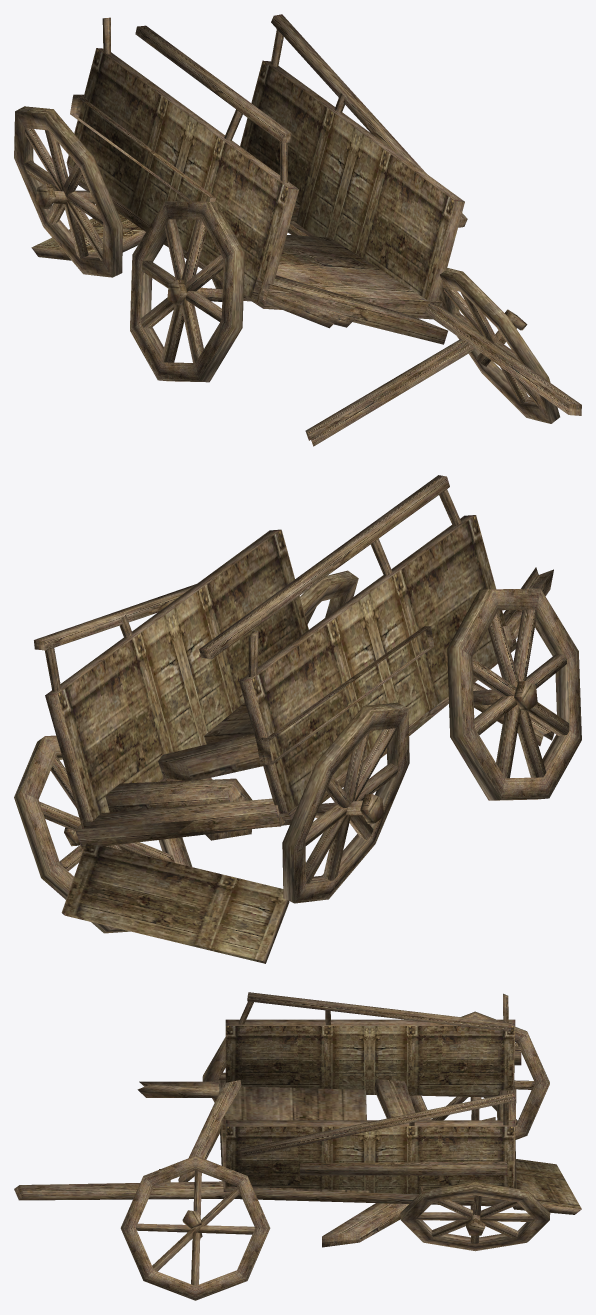
Rendered from S_Build_West030.FBX.
The picture shows the model from 3 angles, top to bottom: view 1: azimuth 30°, elevation 25°; view 2: azimuth 150°, elevation 25°; view 3: azimuth 270°, elevation 25°; orthographic projection. The views are drawn at different scales.
Visible parts, largest first — view 1: S_Build_West030; view 2: S_Build_West030; view 3: S_Build_West030.
Part boxes in pixels (x1,y1,x2,y2): S_Build_West030: (14,14,581,446); S_Build_West030: (14,475,581,963); S_Build_West030: (14,992,581,1300).
Bounding box in the file's own units: 235 × 474 × 214.
